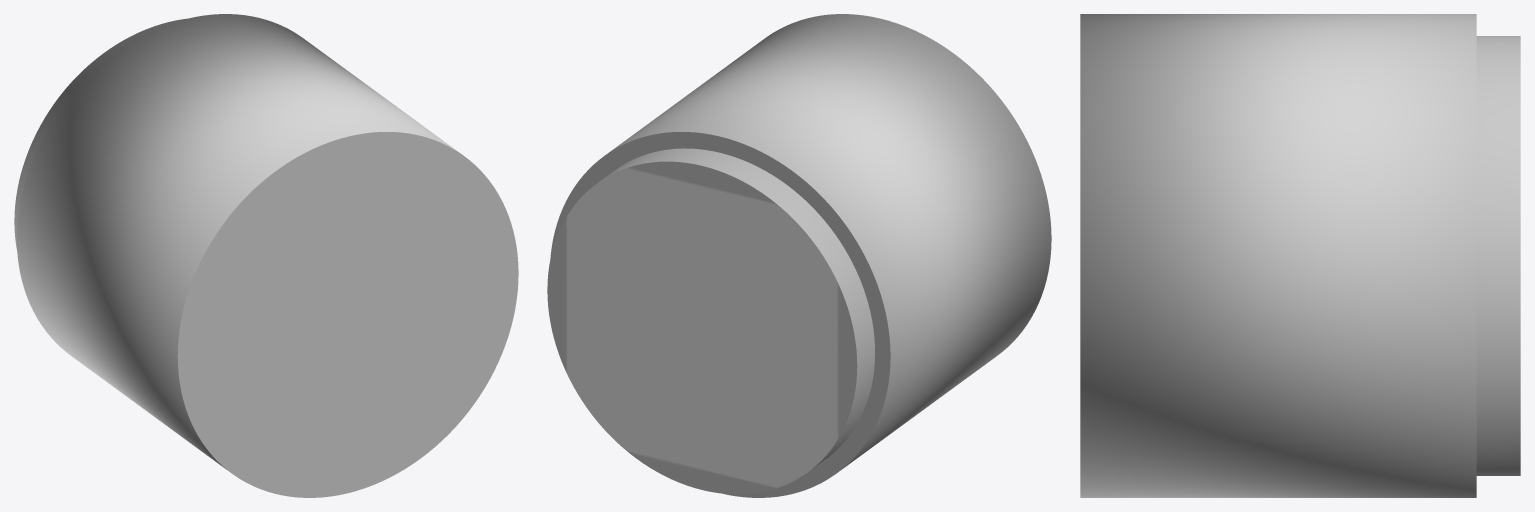
The model's file is deltaPrinter.dae.
3 renders of one model, left to right at view 1: azimuth 30°, elevation 25°; view 2: azimuth 150°, elevation 25°; view 3: azimuth 270°, elevation 25°, orthographic. The views are drawn at different scales.
Visible parts, largest first — view 1: Circle; view 2: Circle; view 3: Circle.
Boxes of the visible parts, x1,y1,x2,y2 form: Circle: [14, 14, 518, 497]; Circle: [547, 14, 1051, 497]; Circle: [1080, 14, 1520, 497].
Size of the model in its own units: 1.1 by 1 by 1.1.
Materials: 2 (1 with a texture image).
